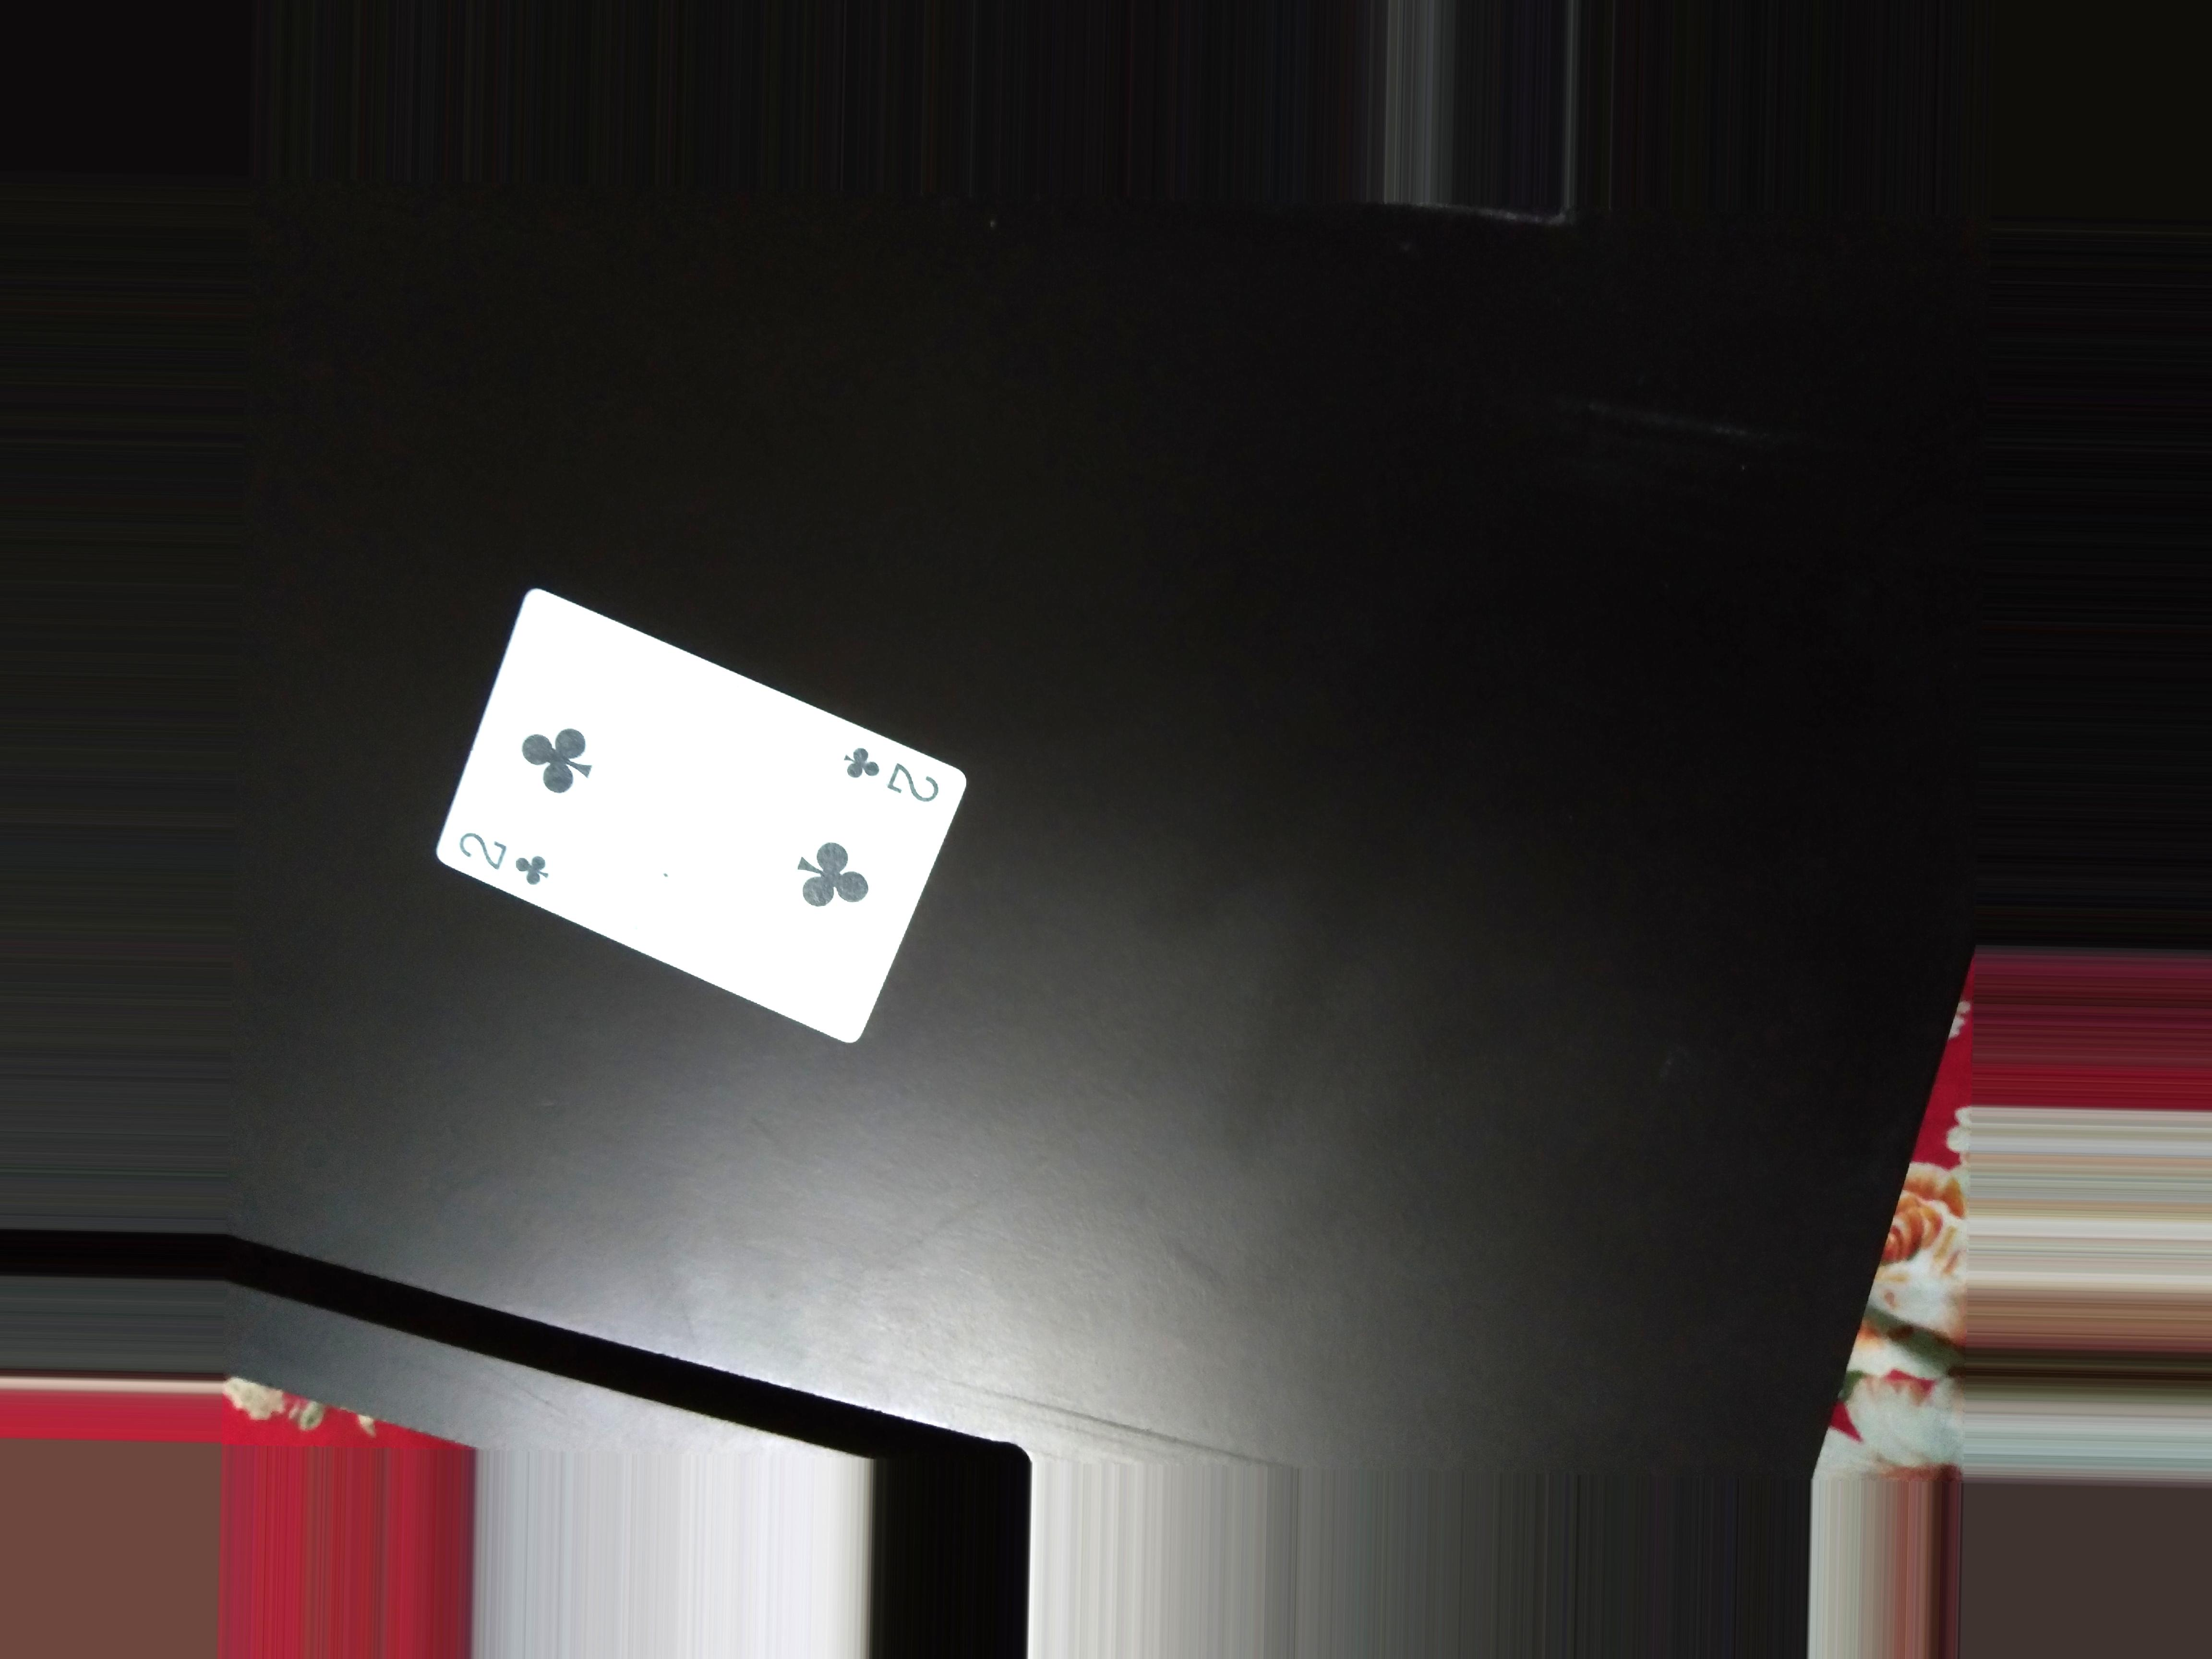2C: (449, 816, 561, 910)
